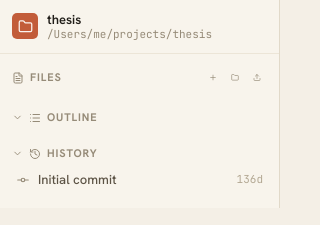
Sidebar — collapsible OUTLINE + HISTORY sections › toggles each section independently
What coordinates should you click on to do the following:
click the button "Outline"
I would click on:
 (72, 117)
Its box is x1=8 y1=112 x2=271 y2=130.
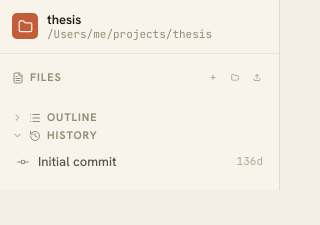
Check: the text "Initial commit" is shown, box x1=38 y1=153 x2=116 y2=170
Check: the button "Outline" is collapsed, box x1=8 y1=112 x2=271 y2=130
